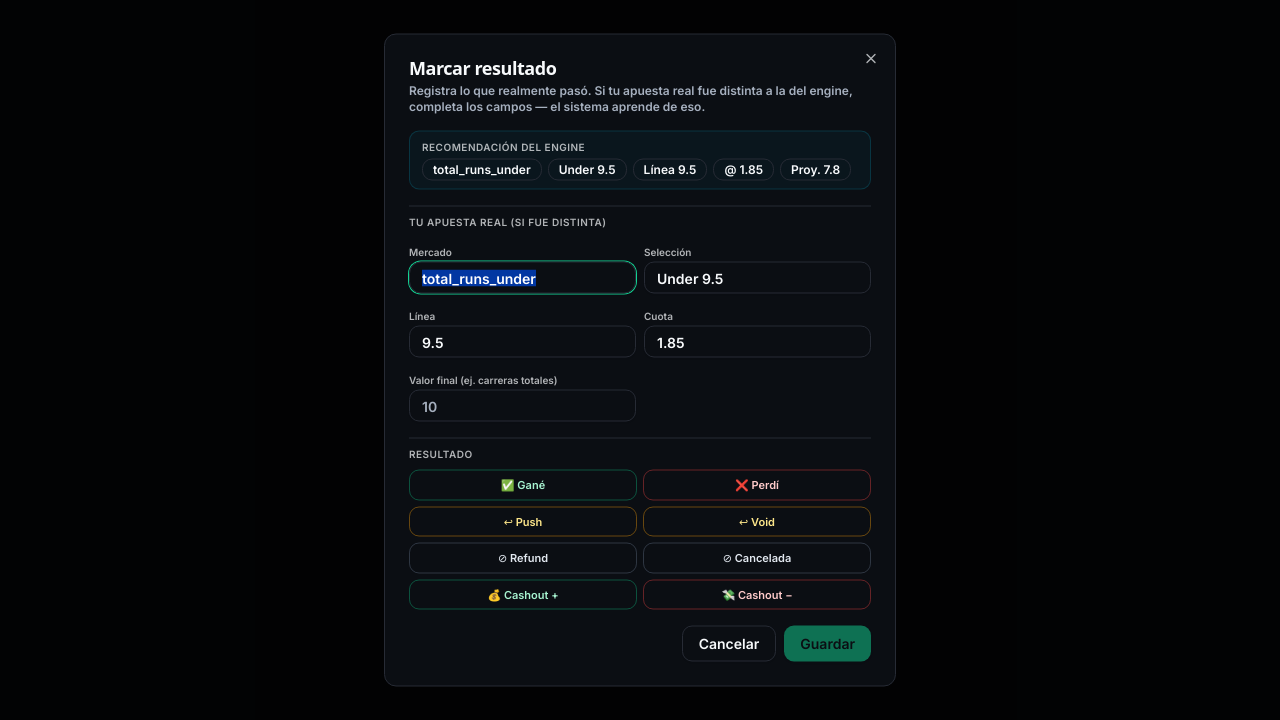
Test: MatchOutcomeModal — submit → /picks/track payload › blocks submit until an outcome is picked
Expected: the button with test id "outcome-modal-submit-m-42" is disabled, [784,626,871,662]
Click the button with test id "outcome-modal-outcome-won-m-42": (523, 485) [409,470,637,500]
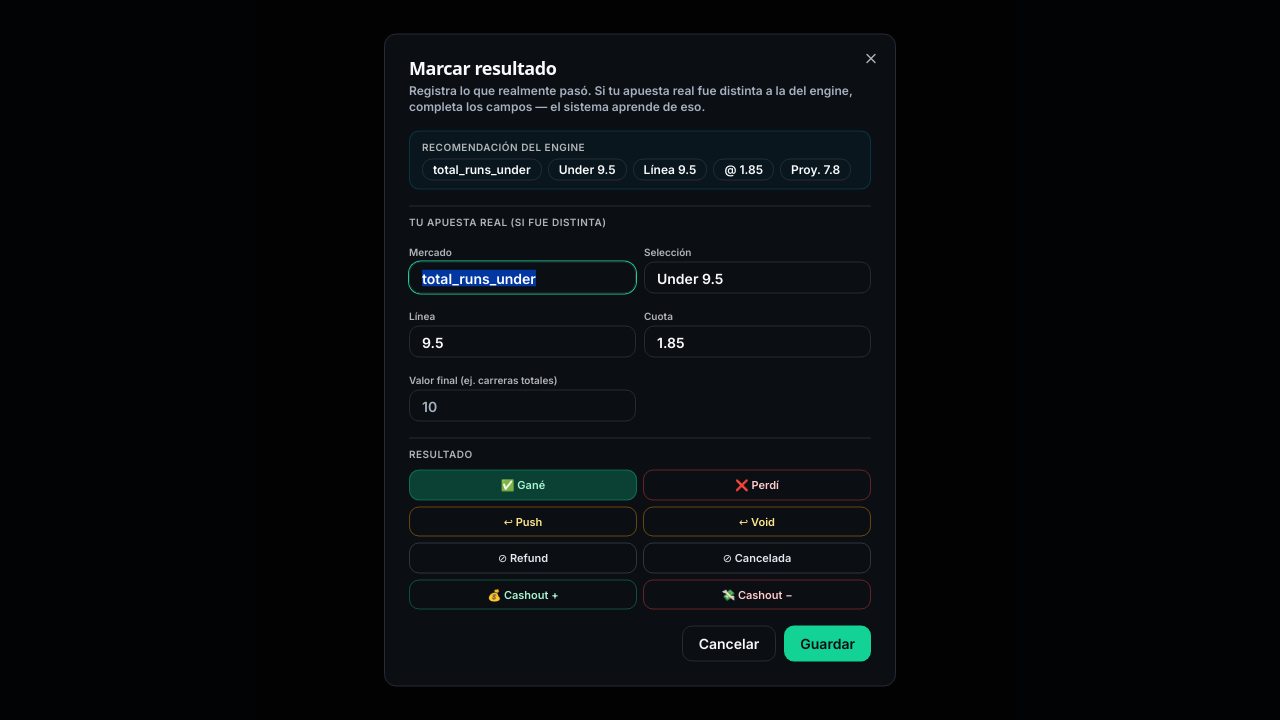
Expected: the button with test id "outcome-modal-submit-m-42" is enabled, [784,626,871,662]
